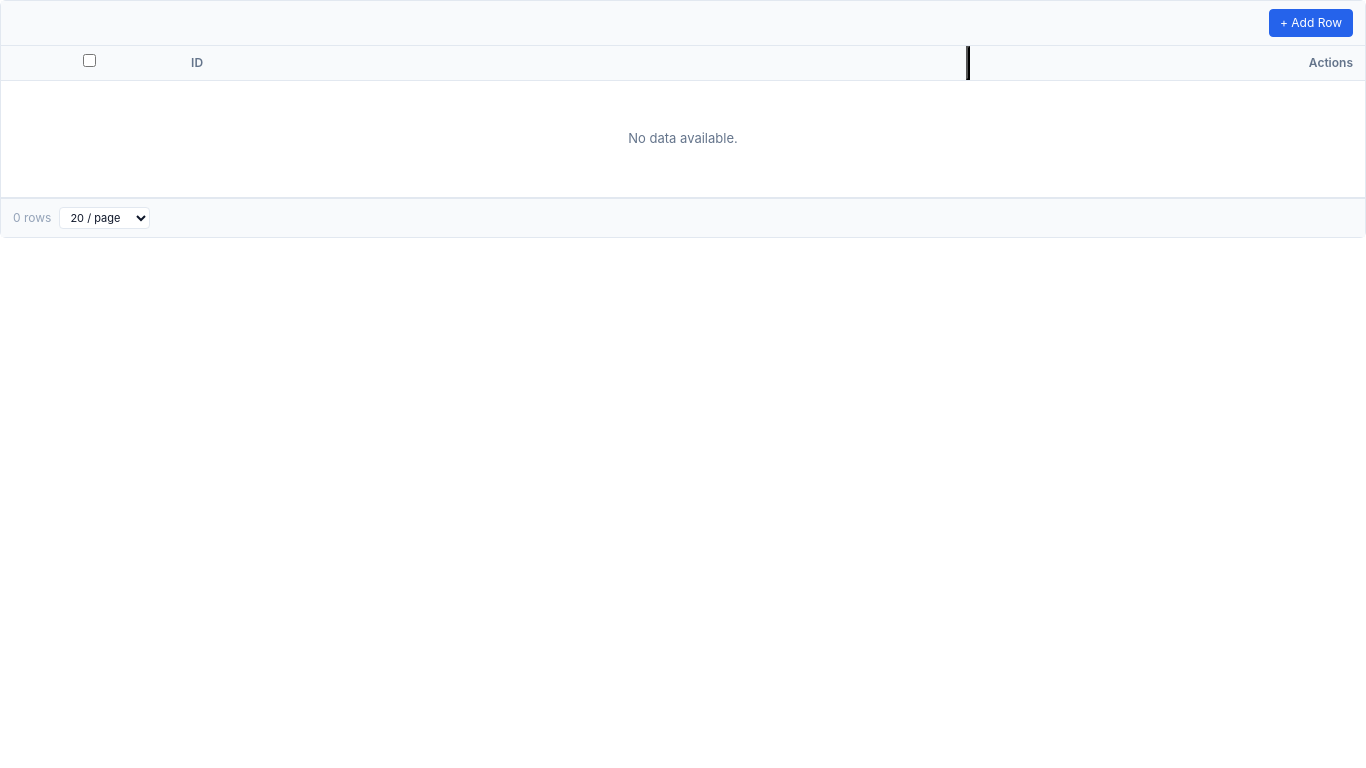
Scenario: DataGrid › shows a clear inline error when a custom record id contains Korean characters
Click the button "+ Add Row" at (1311, 23), box x1=1269 y1=9 x2=1353 y2=37
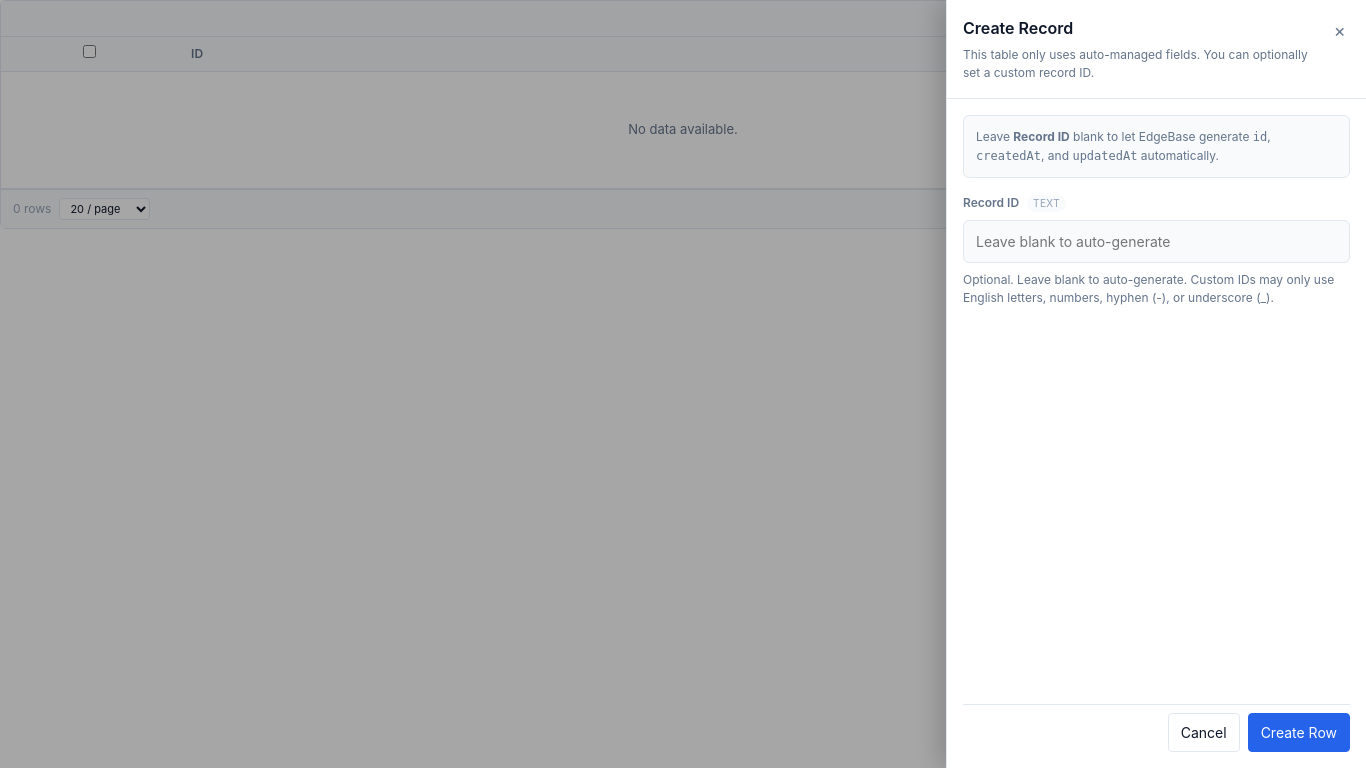
Type "한글-id" into the field labelled "Record ID" at (1156, 242), box x1=963 y1=220 x2=1350 y2=263
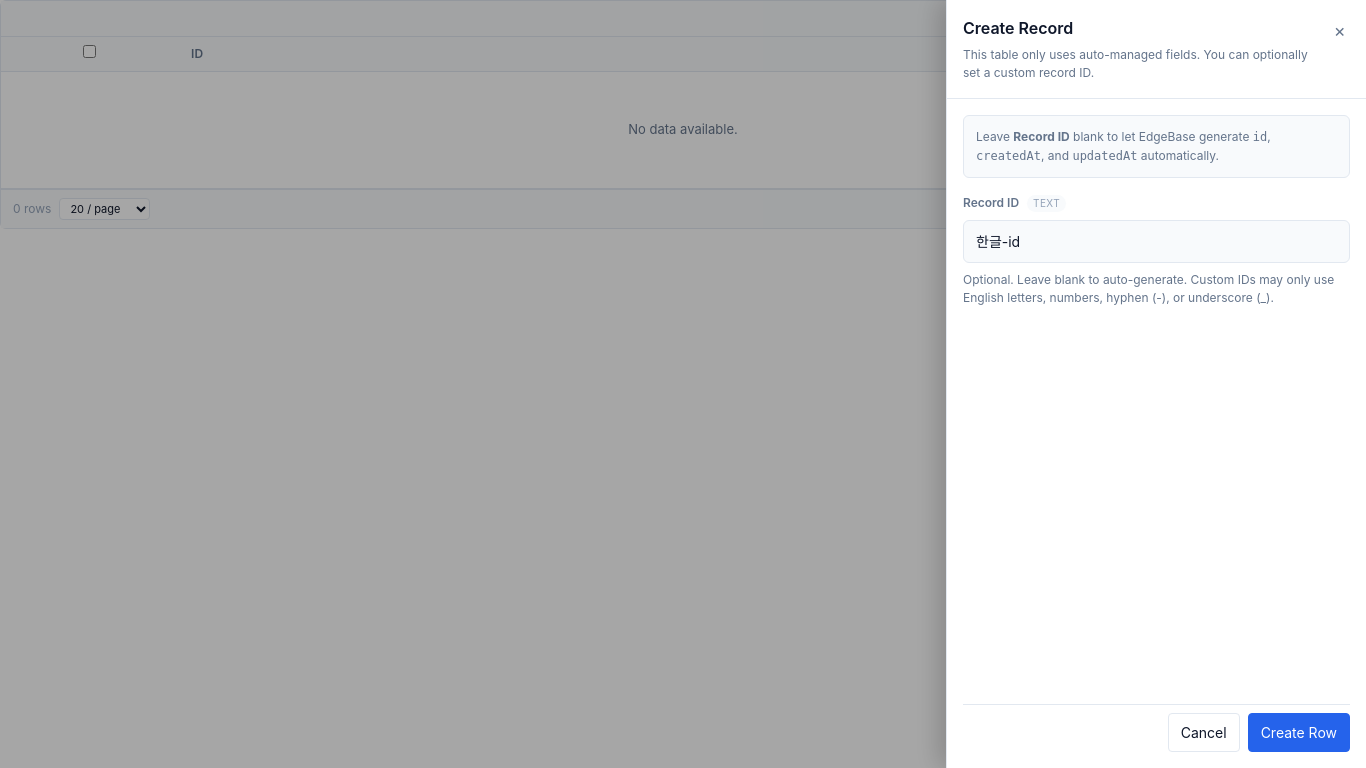
Click the button "Create Row" at (1299, 732), box x1=1248 y1=713 x2=1350 y2=752
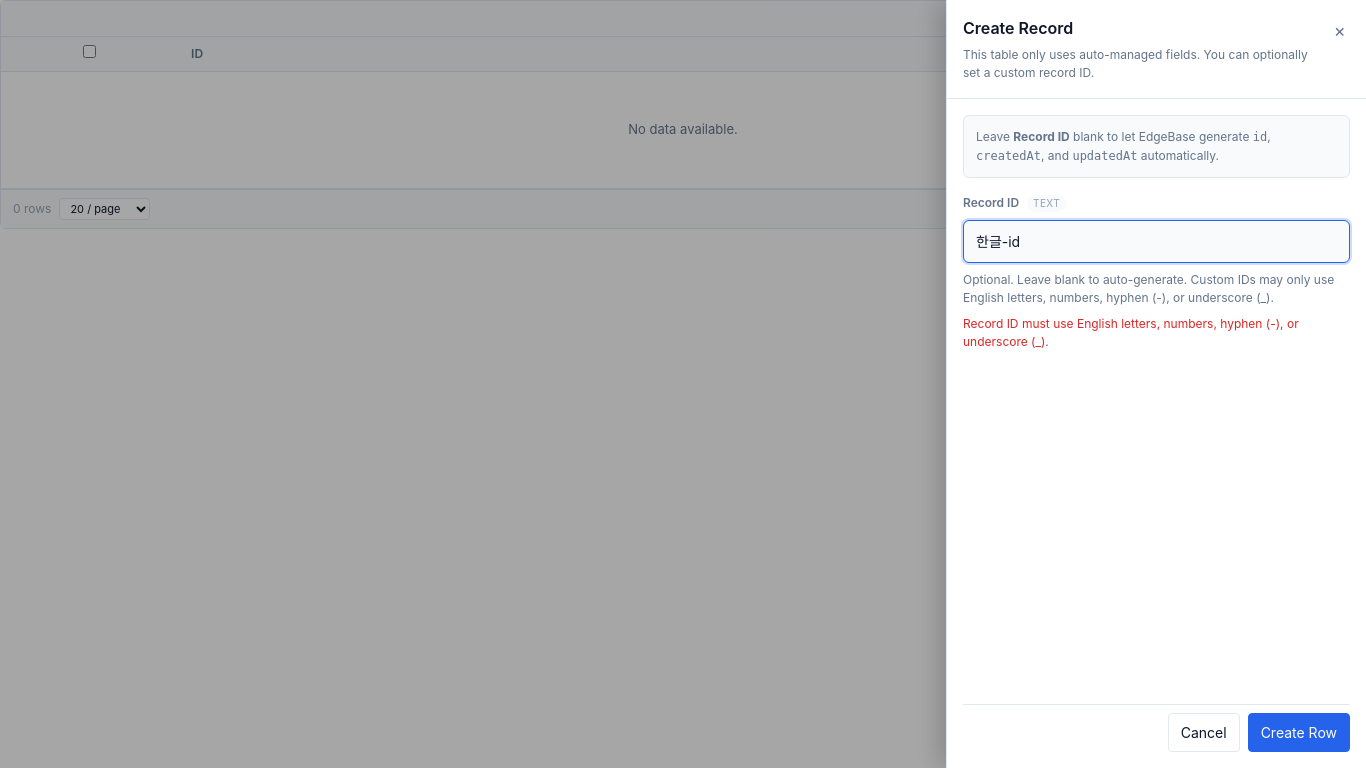
Now the text "Record ID must use English letters, numbers, hyphen (-), or underscore (_)." is shown, box x1=963 y1=315 x2=1350 y2=351
